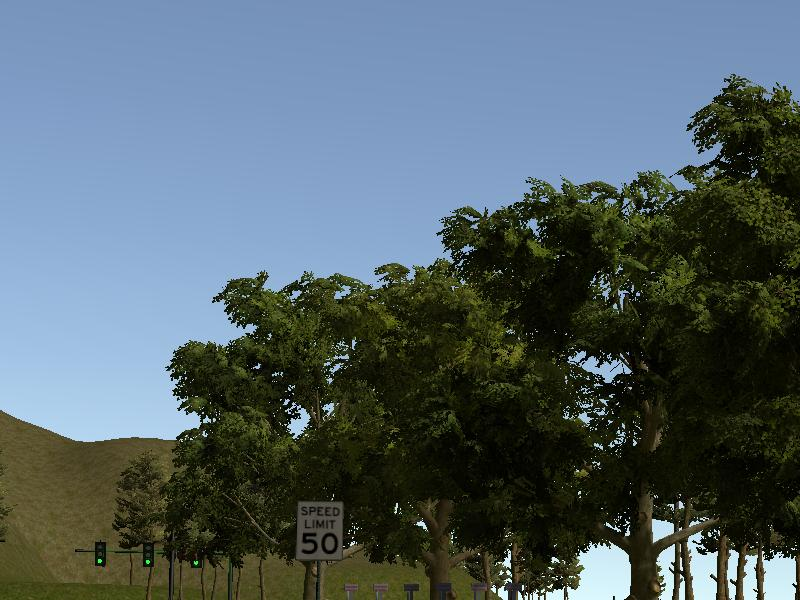Green: (95, 541, 106, 566), (143, 542, 154, 565)
